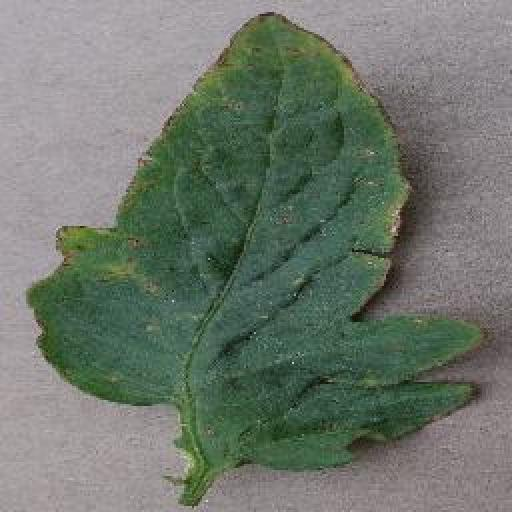Bacterial Spot: (24, 11, 492, 477)
